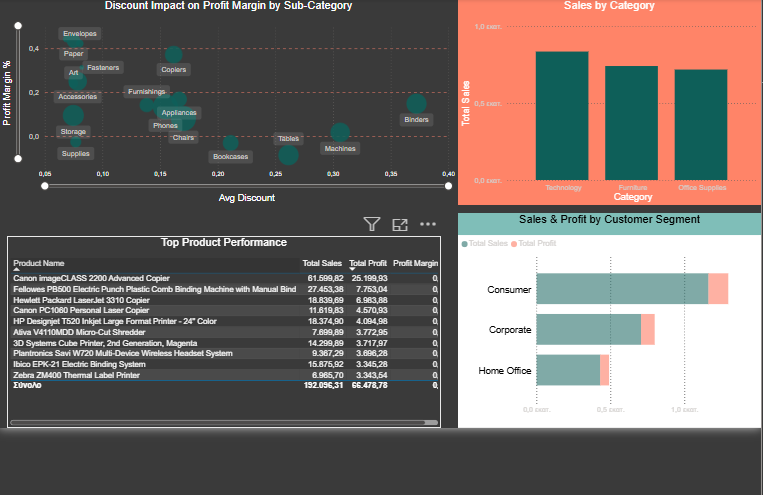

Layout of this report page (visuals, bound fields, positions):
{"tool":"powerbi","page":{"name":"Σελίδα 2","canvas":[1280,720],"ordinal":1},"visuals":[{"type":"scatterChart","title":"Discount Impact on Profit Margin by Sub-Category","fields":{"X":["SuperstoreData.Avg Discount"],"Y":["SuperstoreData.Profit Margin %"],"Category":["SuperstoreData.Sub-Category"],"Size":["SuperstoreData.Total Sales"]},"box":[0,0,771,346],"z":0},{"type":"tableEx","title":"Top Product Performance","fields":{"Values":["SuperstoreData.Product Name","SuperstoreData.Total Sales","SuperstoreData.Total Profit","SuperstoreData.Profit Margin %"]},"box":[13.4,398.1,729,322.5],"z":1000},{"type":"barChart","title":"Sales & Profit by Customer Segment","fields":{"Y":["SuperstoreData.Total Sales","SuperstoreData.Total Profit"],"Category":["SuperstoreData.Segment"]},"box":[771,359.5,509,361.2],"z":2000},{"type":"columnChart","title":"Sales by Category","fields":{"Y":["SuperstoreData.Total Sales"],"Category":["SuperstoreData.Category"]},"box":[771,0,509,346],"z":3000}]}

Visuals, with their boxes on the page's 1280x720 design canvas (x1, y1, x2, y2). These are canvas units, not pixel positions in the 763x495 screenshot, which may show the page scaled, cropped or inside an application window:
"Discount Impact on Profit Margin by Sub-Category" scatterChart: [0,0,771,346]
"Top Product Performance" tableEx: [13,398,742,721]
"Sales & Profit by Customer Segment" barChart: [771,360,1280,721]
"Sales by Category" columnChart: [771,0,1280,346]
